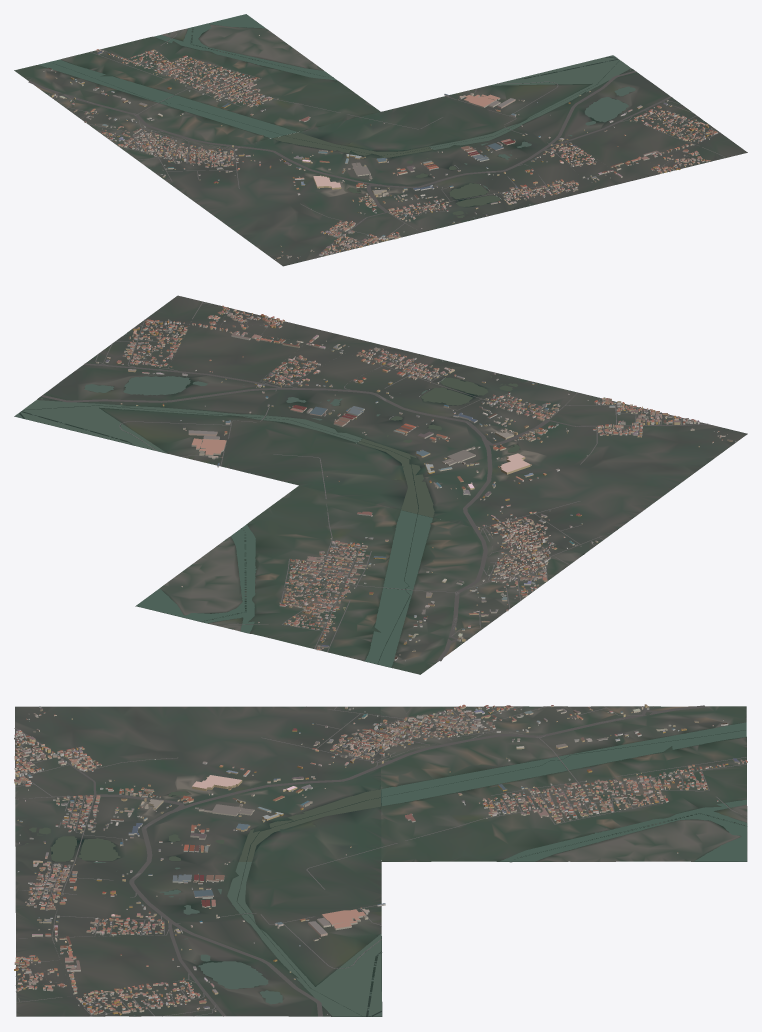
The picture shows the model from 3 angles, top to bottom: view 1: azimuth 30°, elevation 25°; view 2: azimuth 150°, elevation 25°; view 3: azimuth 270°, elevation 25°; orthographic projection. The views are drawn at different scales.
Parts seen in each view (by area): view 1: ground, buildings, water, roads; view 2: ground, buildings, water, roads; view 3: ground, buildings, water, roads.
Boxes of the visible parts, box(x1,y1,x2,y2) form: ground: box(14, 18, 747, 266); buildings: box(43, 35, 717, 259); water: box(38, 14, 703, 217); roads: box(28, 30, 726, 258); ground: box(14, 295, 747, 674); buildings: box(41, 305, 736, 660); water: box(15, 334, 520, 667); roads: box(41, 302, 708, 661); ground: box(15, 706, 747, 1016); buildings: box(14, 704, 747, 1015); water: box(25, 722, 747, 1016); roads: box(14, 705, 746, 1016).
Bounding box in the file's own units: 2822 × 23.77 × 2812.
